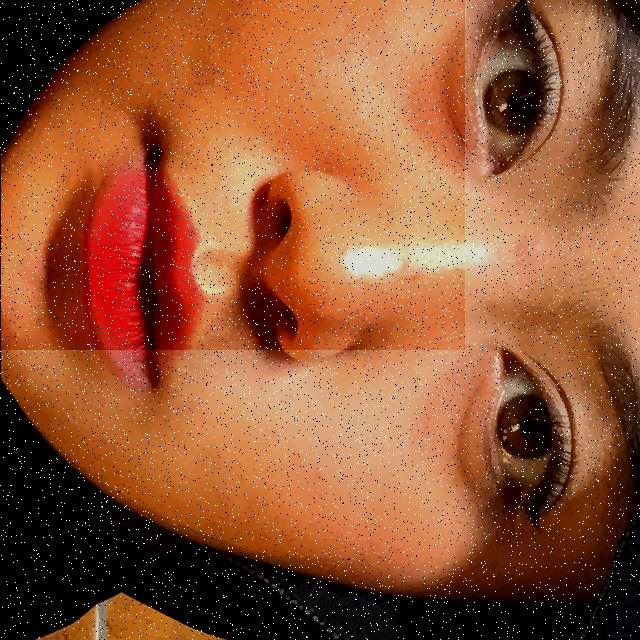ibu: (0, 0, 464, 350), (0, 0, 464, 285)
